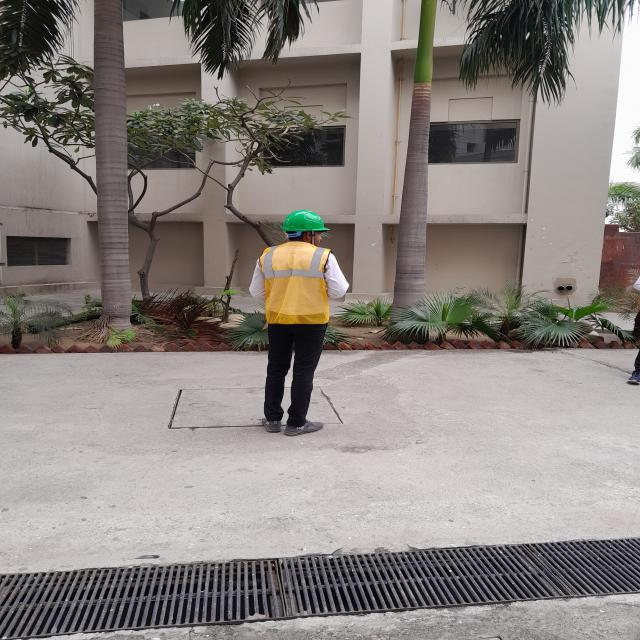safe: (247, 210, 352, 436)
